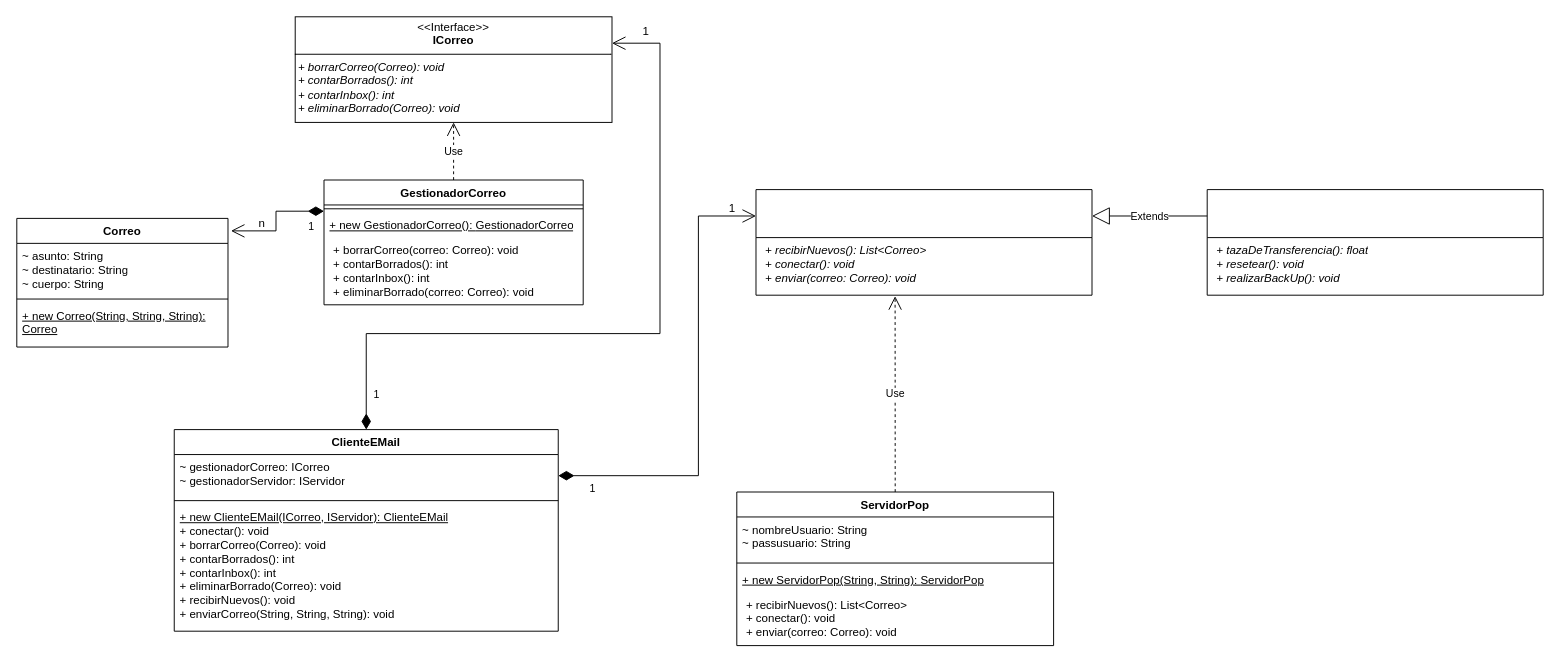
This 1560x665 diagram has some shape labels left out. The box of each missing label's shape, as (x1, y1, x2, y2) in pixels:
<<Interface>> IServidor: (755, 189, 1092, 295)
<<Interface>> IServidorAvanzado: (1206, 189, 1543, 295)
